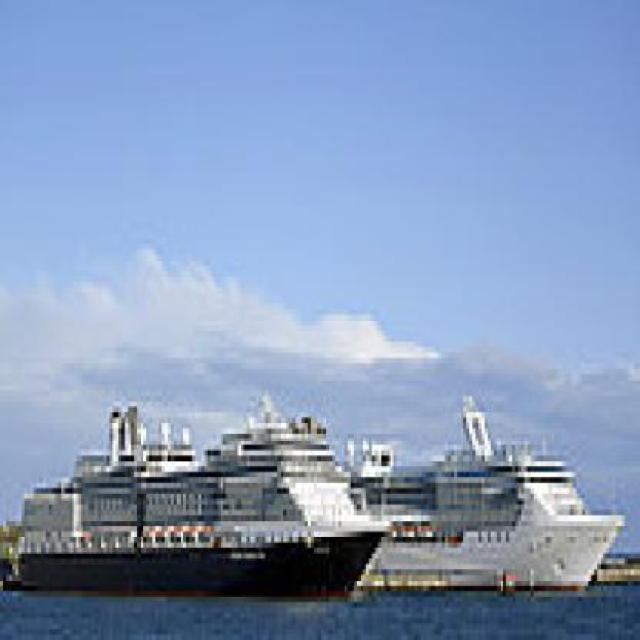cruise: (7, 386, 398, 614), (333, 386, 635, 609)
